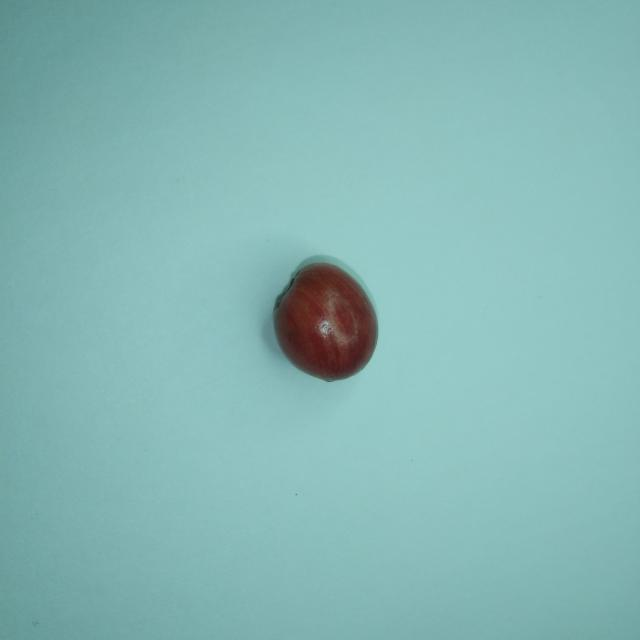Sano: (273, 262, 377, 381)
